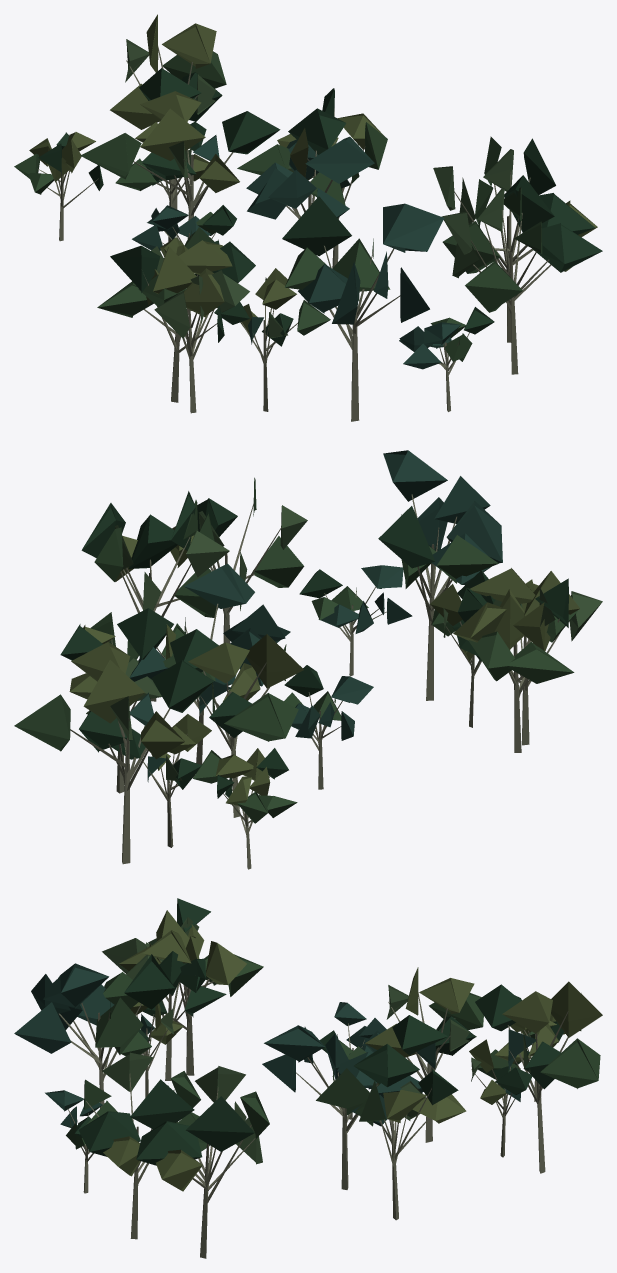
Rendered from forest_26_19.dae.
3 renders of one model, top to bottom at view 1: azimuth 30°, elevation 25°; view 2: azimuth 150°, elevation 25°; view 3: azimuth 270°, elevation 25°, orthographic. The views are drawn at different scales.
Visible parts, largest first — view 1: Node; view 2: Node; view 3: Node.
Part boxes in pixels (x1=…): Node: x1=14, y1=14, x2=602, y2=421; Node: x1=14, y1=450, x2=602, y2=869; Node: x1=14, y1=898, x2=602, y2=1258.
Size of the model in its own units: 8.41 by 9.77 by 3.93.
